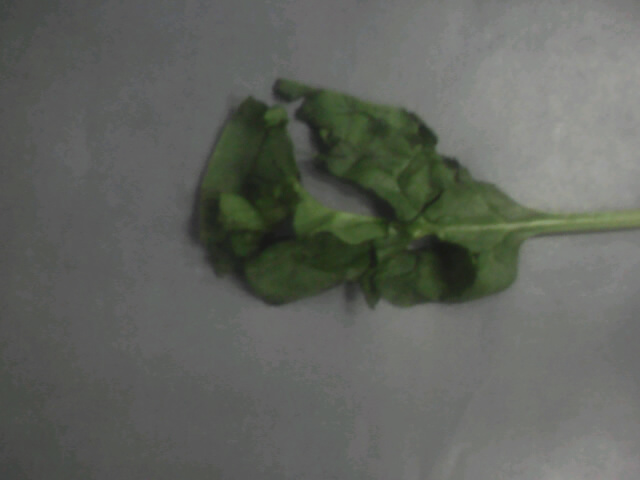yellow: (170, 65, 570, 331)
